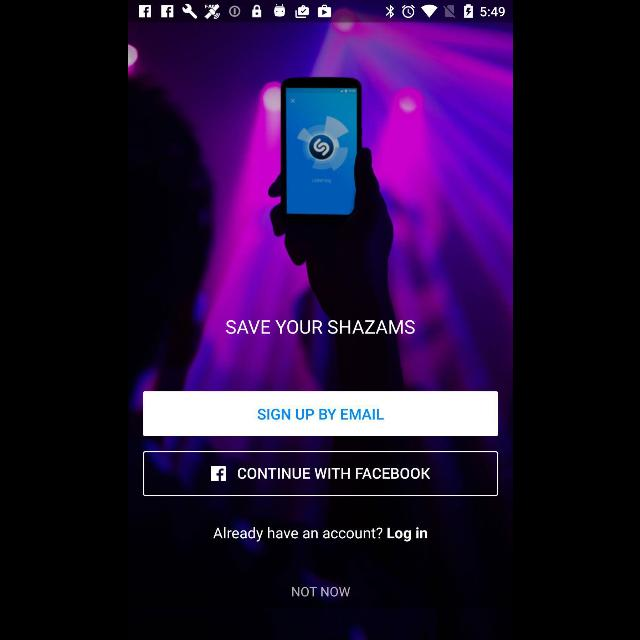backgroundimage: (128, 22, 512, 640)
text: (212, 526, 426, 542), (226, 320, 414, 334), (291, 587, 349, 597)
textbutton: (142, 452, 498, 496), (143, 392, 497, 436)
uppertaskbar: (128, 0, 512, 22)
